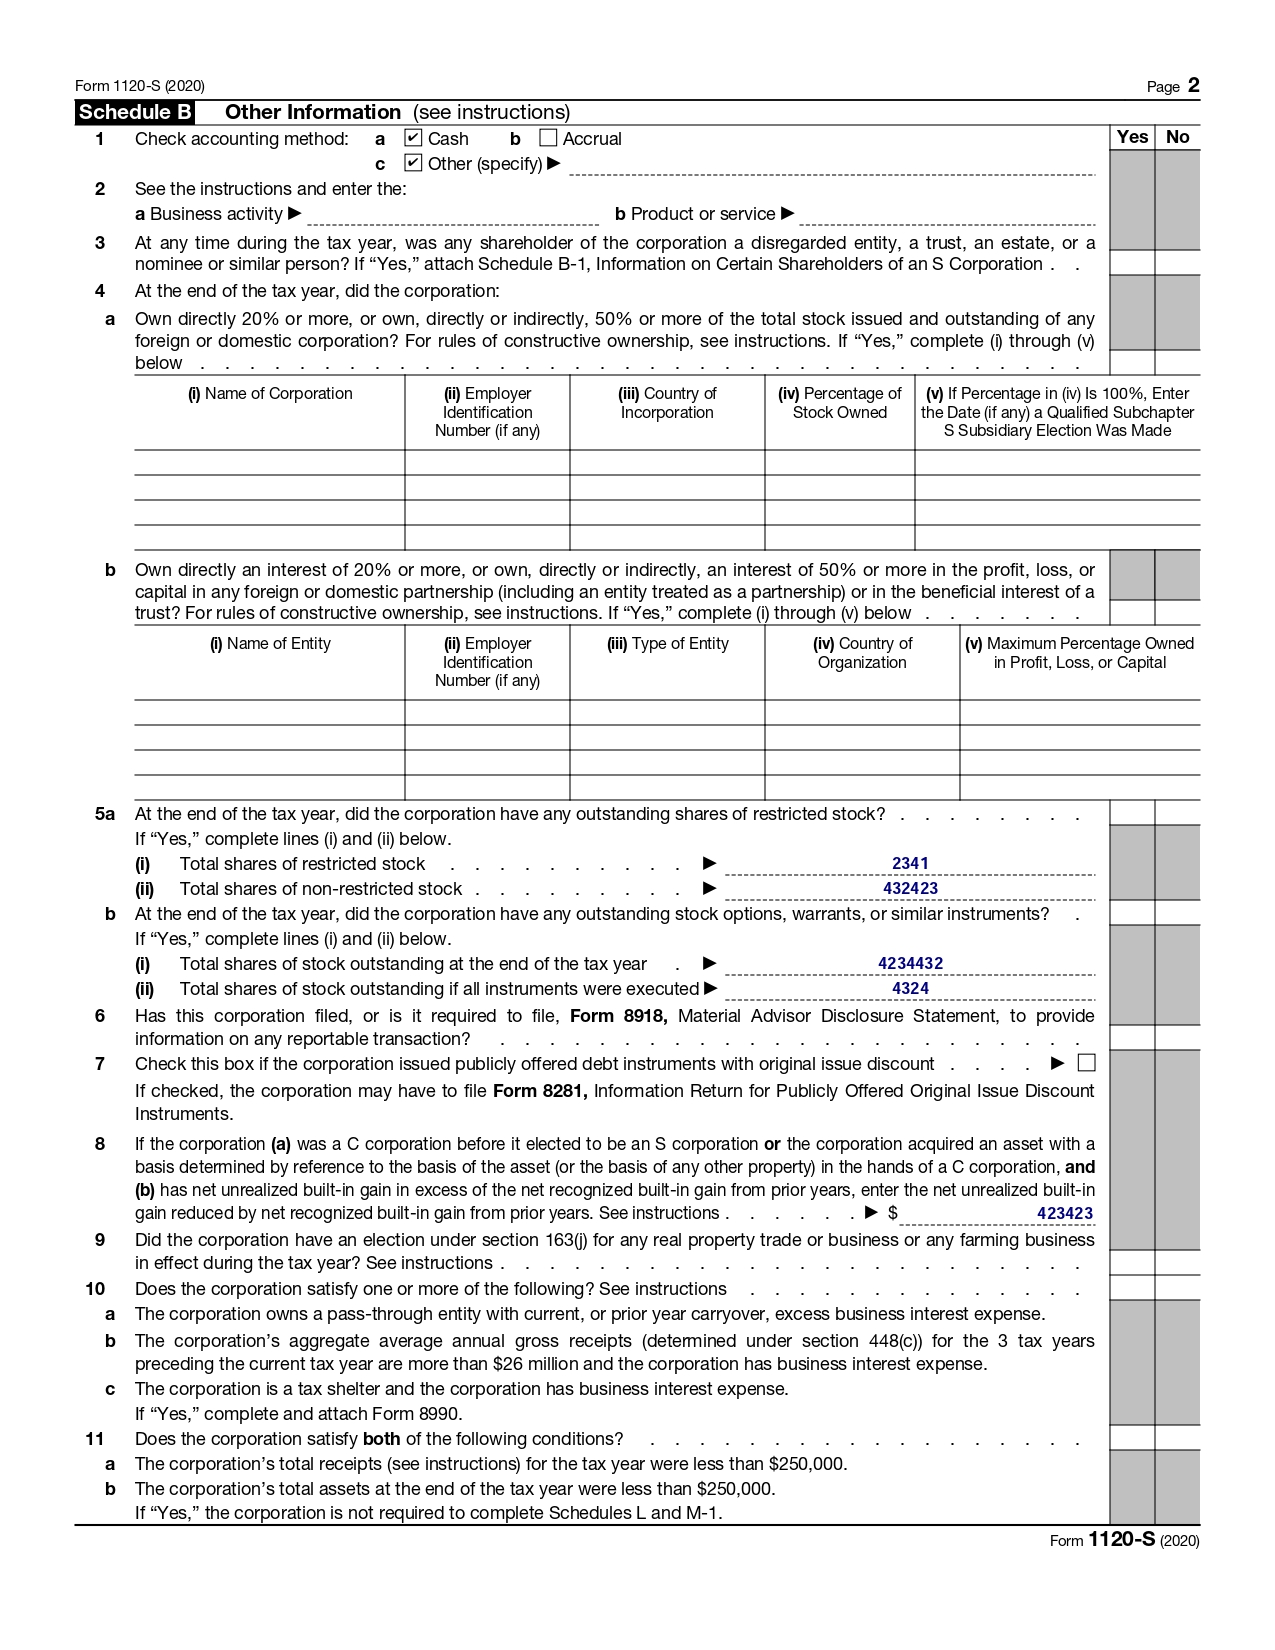table: (78, 800, 1215, 1529), (88, 127, 1211, 376), (87, 372, 1215, 558), (80, 633, 1217, 804), (84, 556, 1220, 629)
